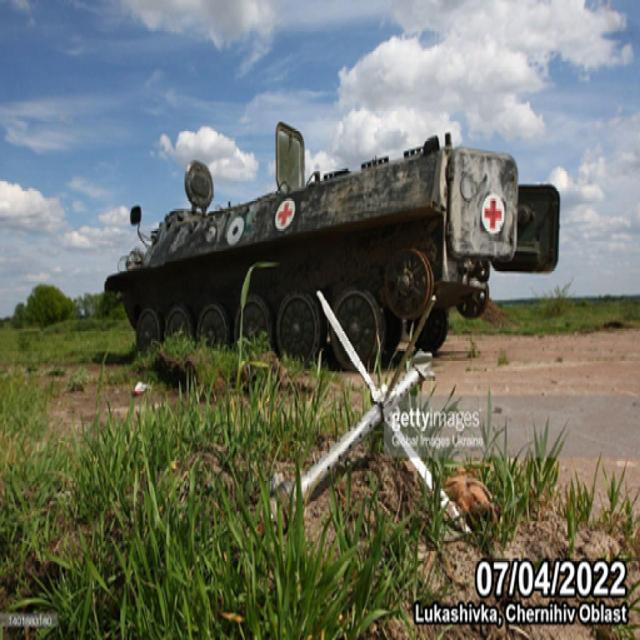APC-IFV: (101, 111, 560, 385)
